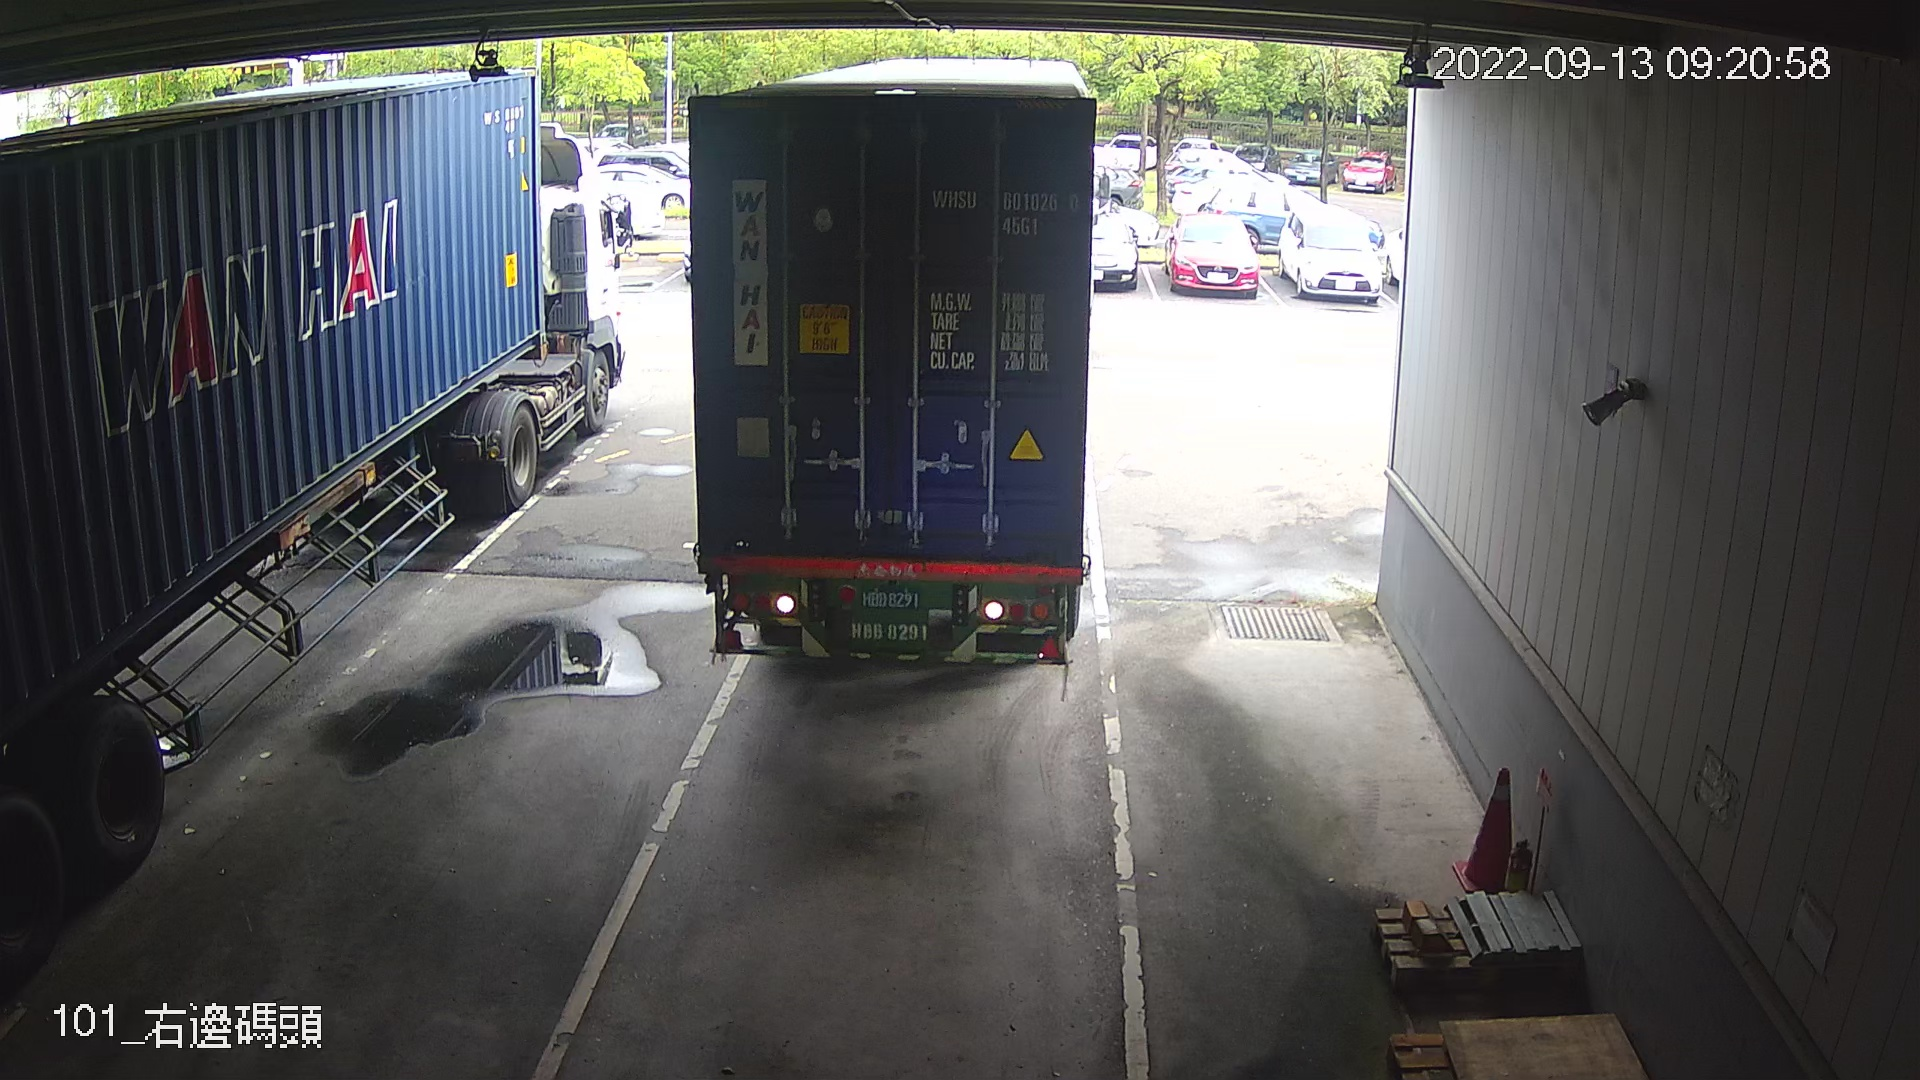container: (922, 175, 1088, 245)
